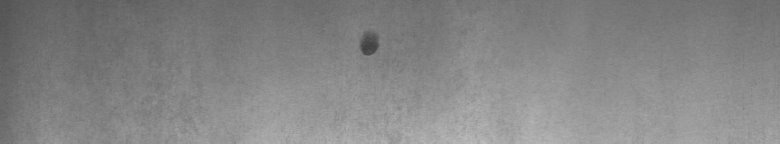fi: (355, 26, 384, 63)
